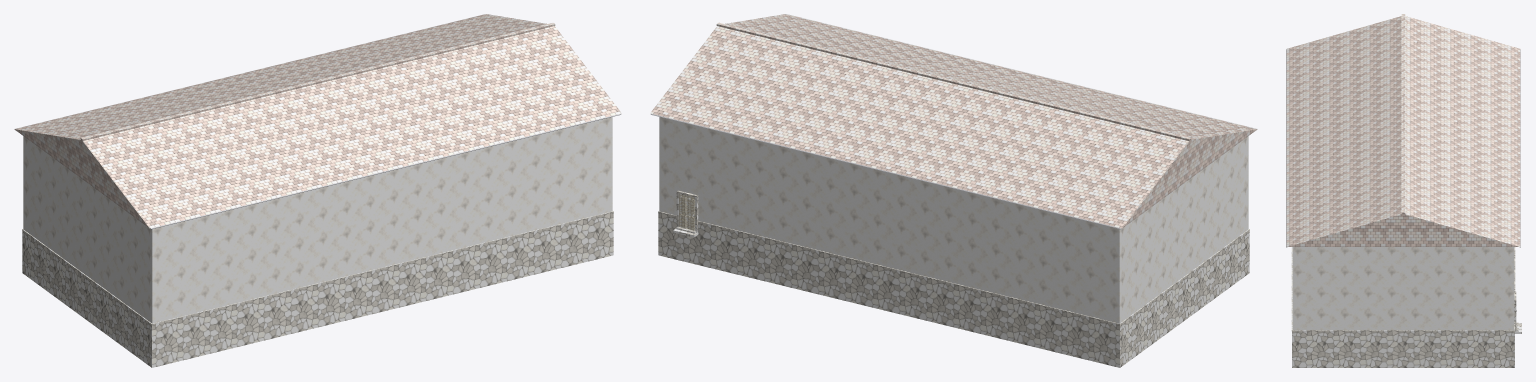
3 views of the same model, side by side, from view 1: azimuth 30°, elevation 25°; view 2: azimuth 150°, elevation 25°; view 3: azimuth 270°, elevation 25° (orthographic). The views are drawn at different scales.
Parts seen in each view (by area): view 1: b1085383213; view 2: b1085383213; view 3: b1085383213.
Boxes of the visible parts, x1,y1,x2,y2 form: b1085383213: (14,14,621,367); b1085383213: (650,14,1257,367); b1085383213: (1286,14,1521,367).
Size of the model in its own units: 28 by 10.37 by 14.06.
11 materials, 11 textured.
